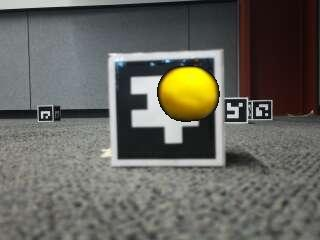lemon: (159, 66, 219, 120)
